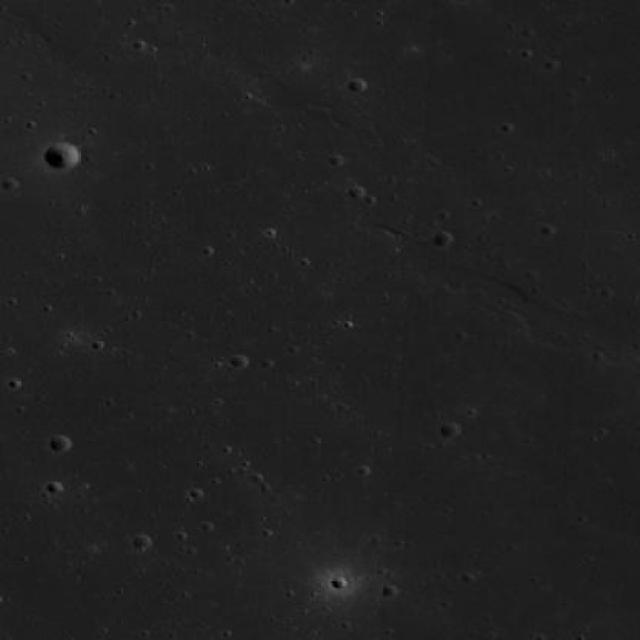crater: (44, 142, 80, 170), (47, 433, 71, 452)
